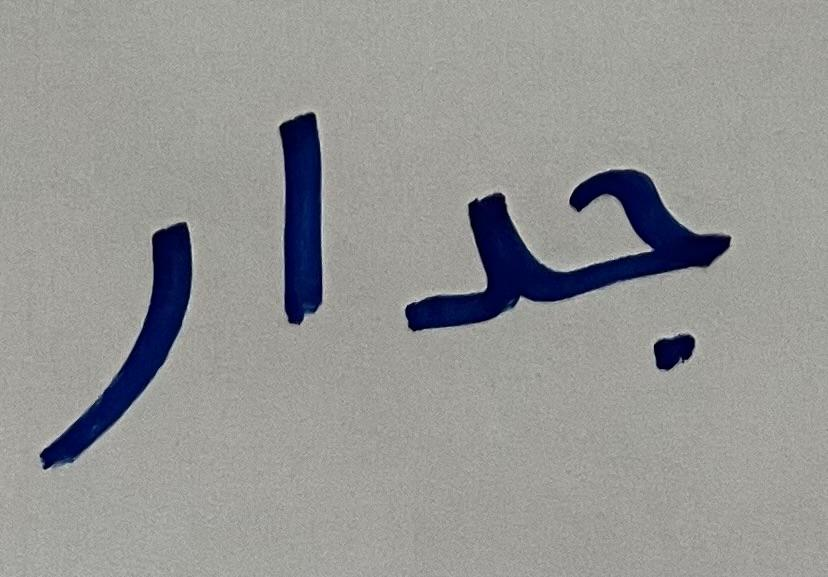alef: (241, 47, 379, 458)
dal: (388, 103, 534, 434)
jeem: (537, 120, 765, 416)
reh: (29, 136, 230, 509)
